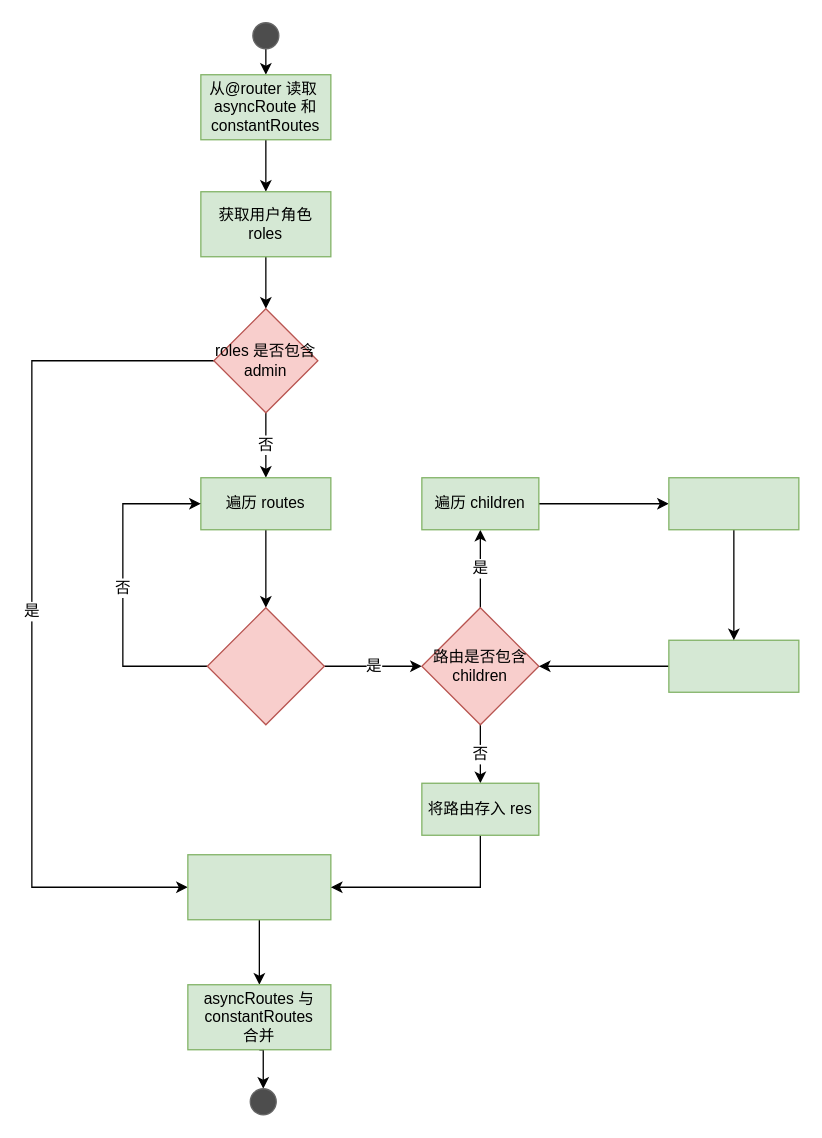
The diagram is 822 pixels wide and 1138 high, and some of its shapes have lost their labels. Each missing label, with the centre of its shape:
将过滤后的 asyncRoutes 保存到 Vuex 中: [259,886]
是否具有路由 访问权限: [265,665]
更新 tmp.children: [733,665]
过滤 children: [733,503]
